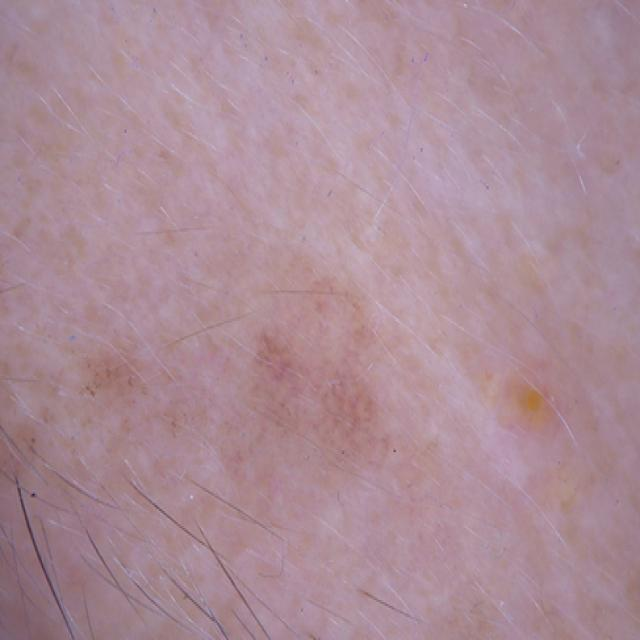Keratosis: (254, 279, 428, 512), (85, 320, 204, 480)
